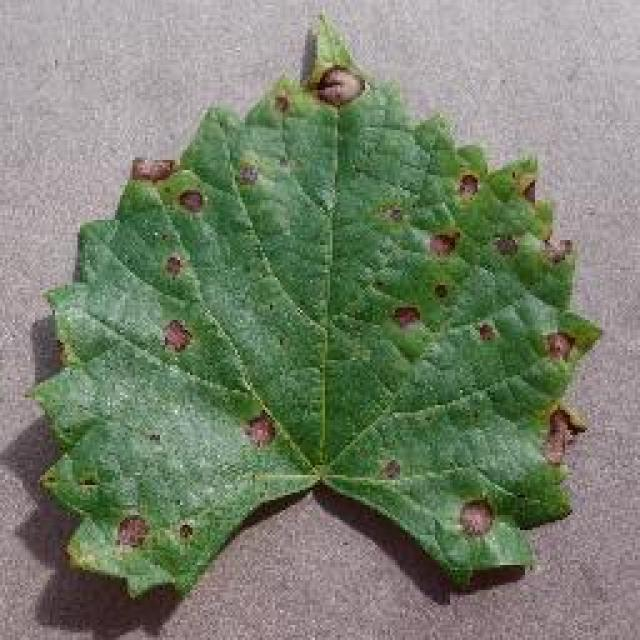Grape___Black_rot: (20, 2, 610, 602)
